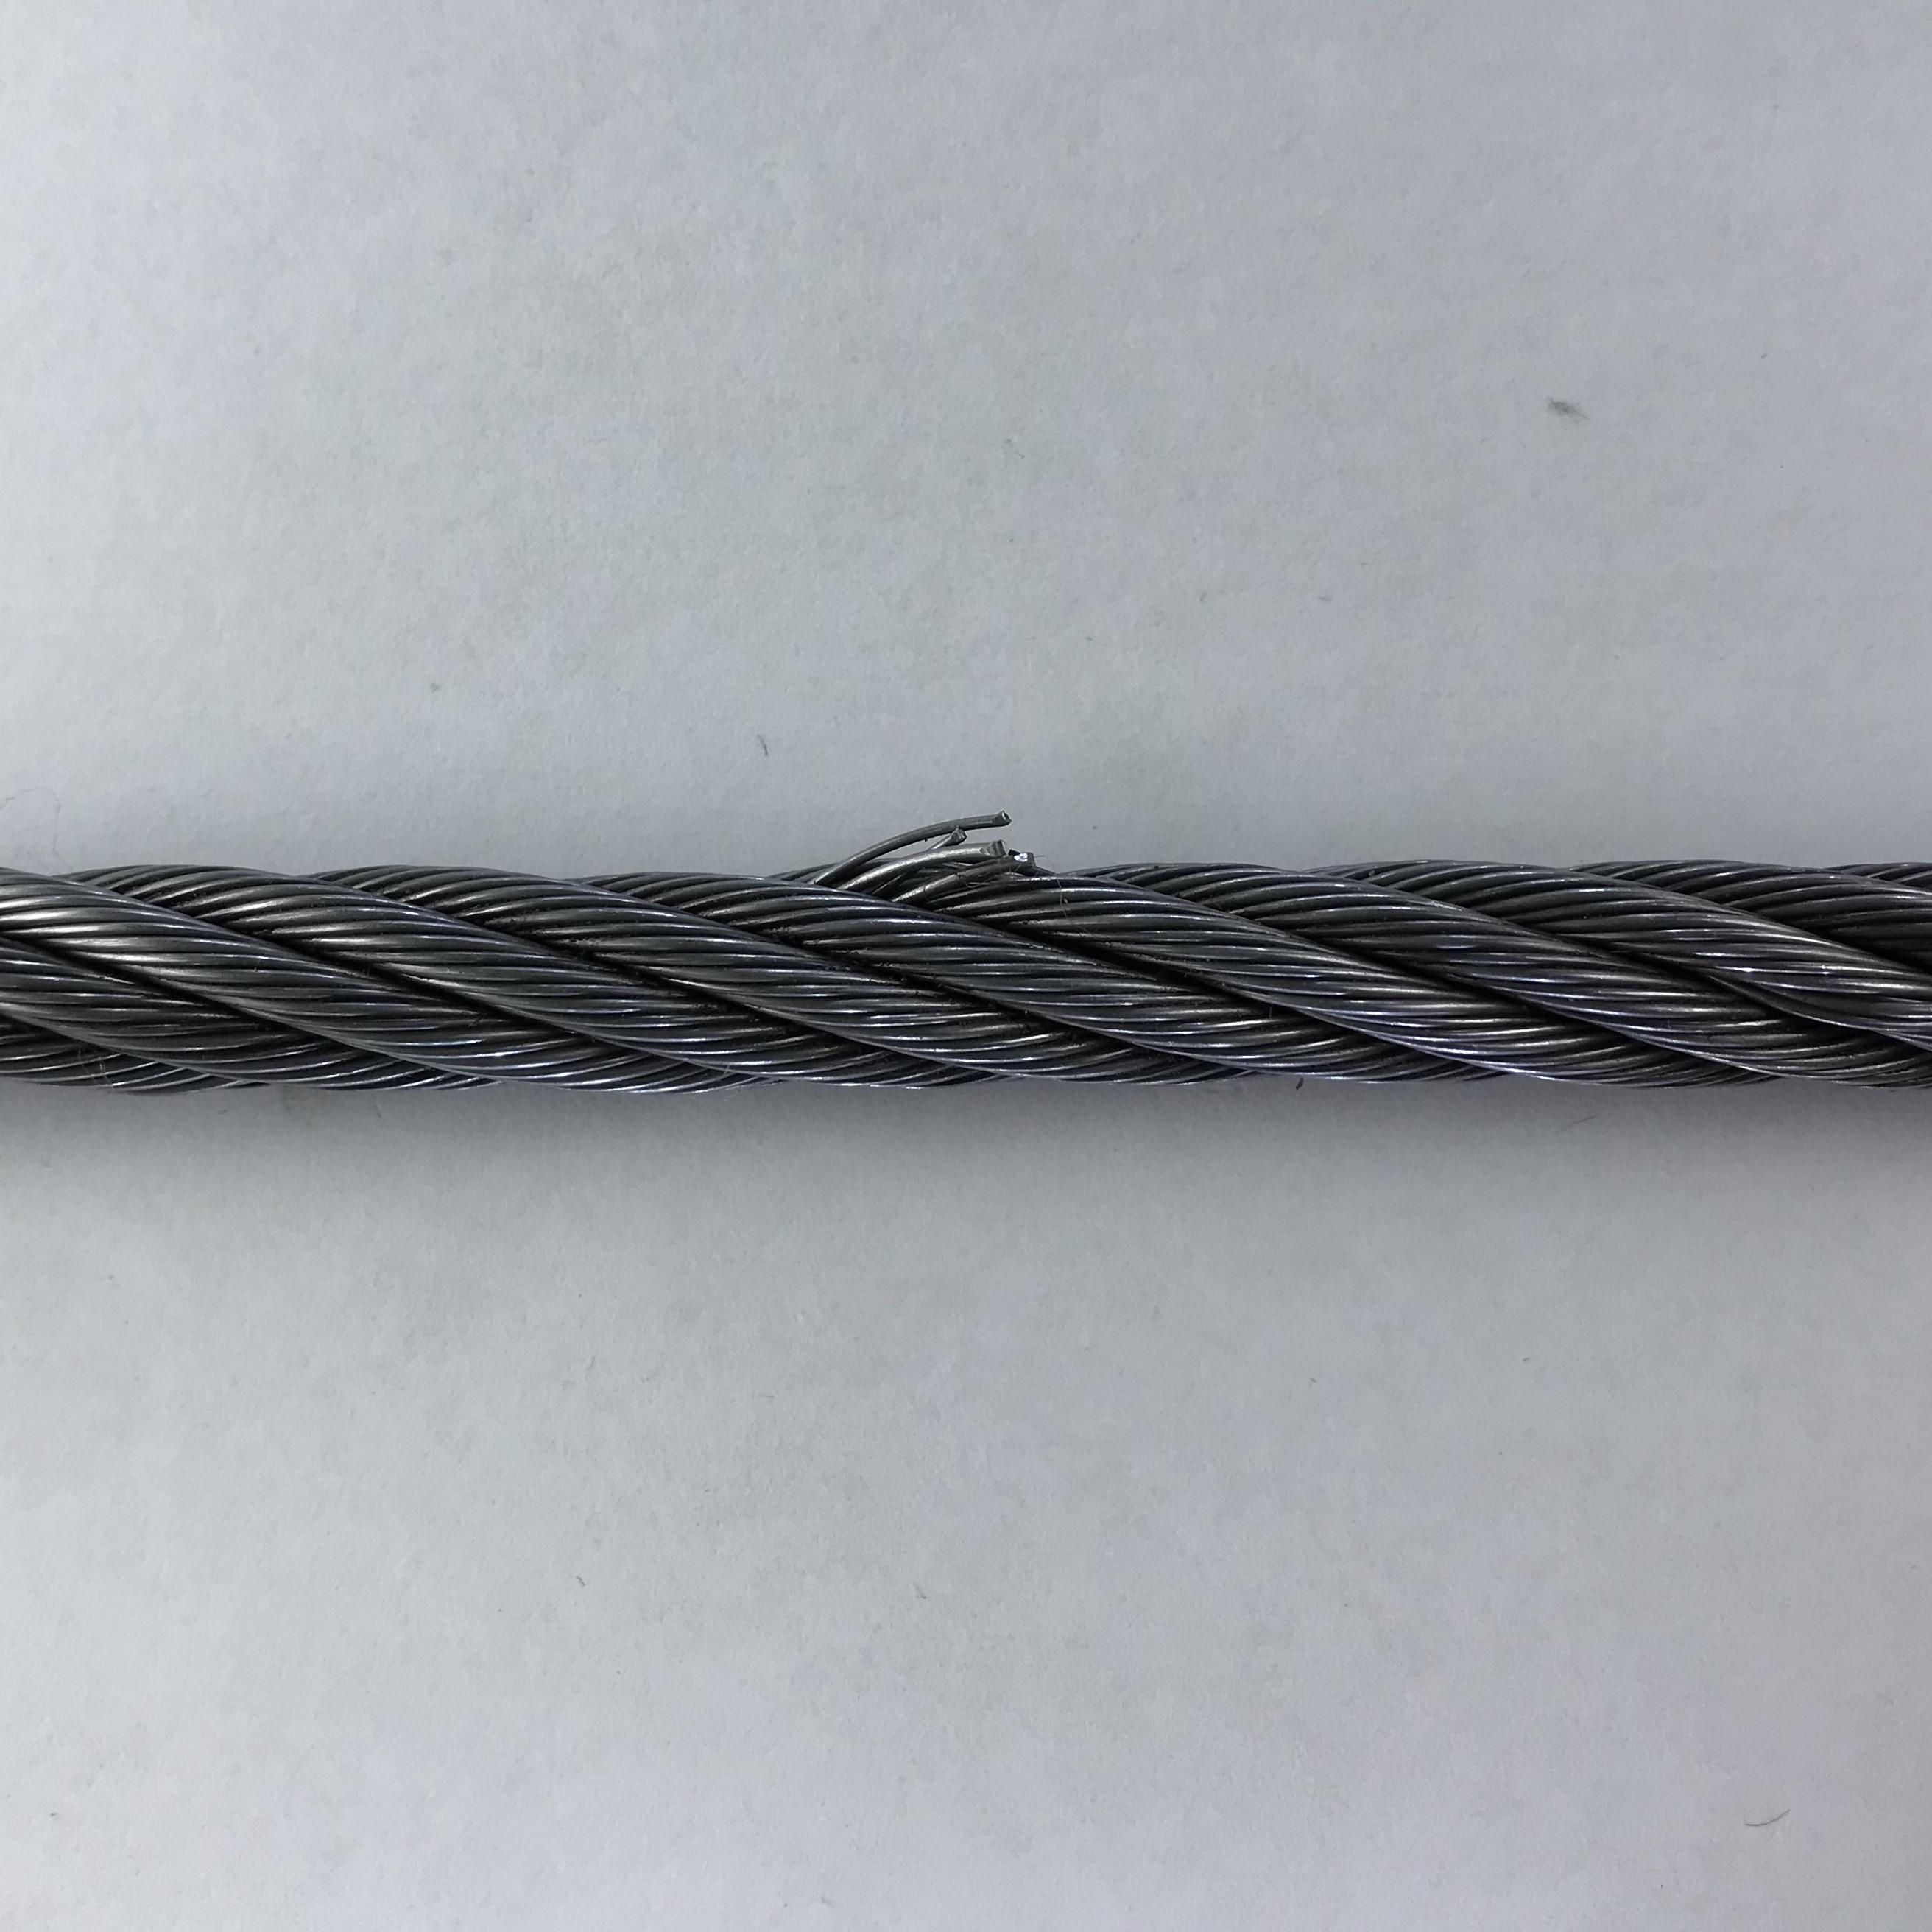break: (824, 791, 1046, 913)
